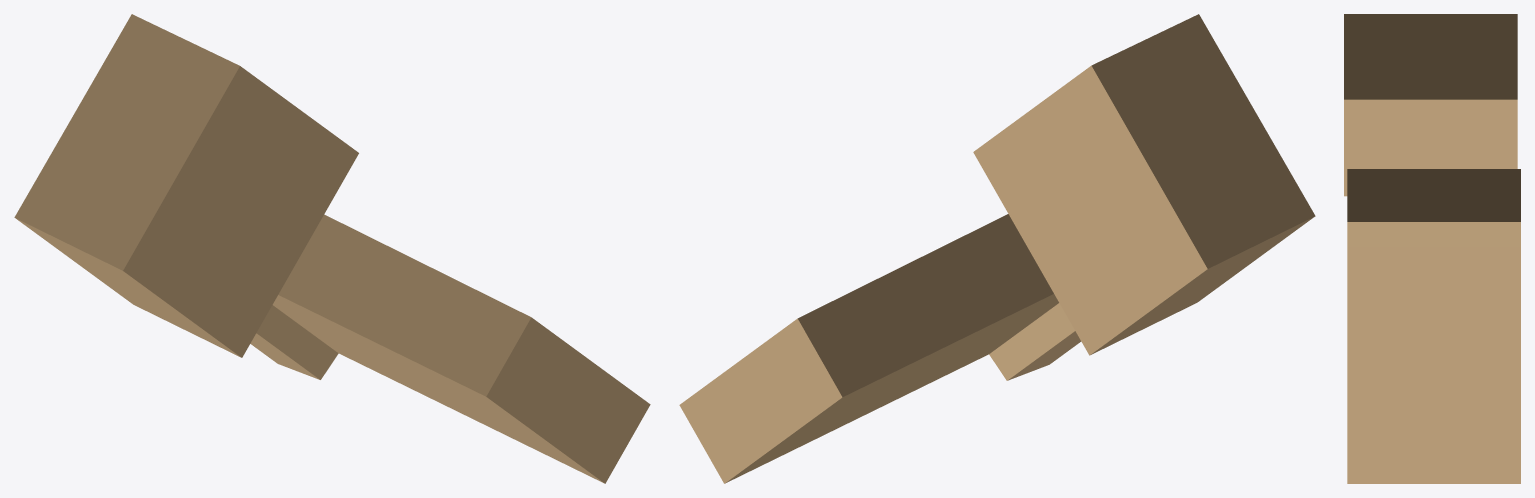
3 views of the same model, side by side, from view 1: azimuth 30°, elevation 25°; view 2: azimuth 150°, elevation 25°; view 3: azimuth 270°, elevation 25° (orthographic). The views are drawn at different scales.
Visible parts, largest first — view 1: 0_1_0_3_1_1_1_1_0; view 2: 0_1_0_3_1_1_1_1_0; view 3: 0_1_0_3_1_1_1_1_0.
Part boxes in pixels (box(x1,y1,x2,y2)): 0_1_0_3_1_1_1_1_0: box(14, 14, 650, 483); 0_1_0_3_1_1_1_1_0: box(679, 14, 1315, 483); 0_1_0_3_1_1_1_1_0: box(1344, 14, 1520, 483).
Size of the model in its own units: 52.86 by 45.86 by 21.4.
